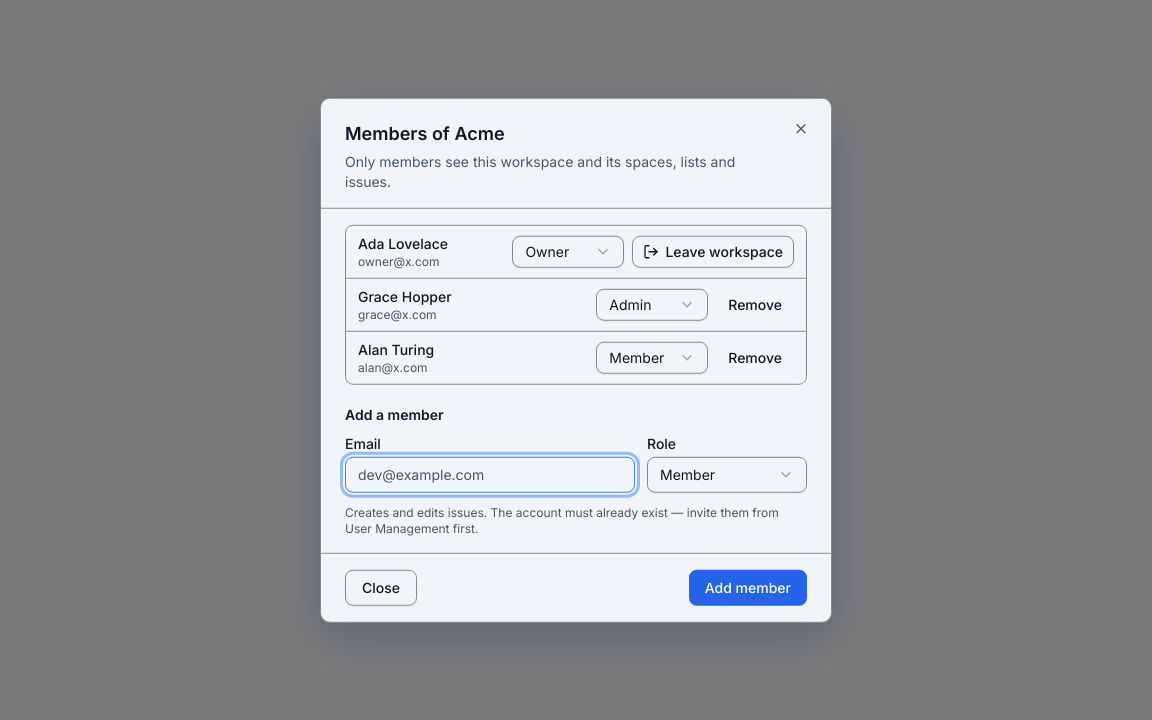
Test case: MembersDialog changing members › changes a role, shows it at once, and keeps it once the API agrees
This screenshot has width=1152, height=720.
Click the dropdown named "Role of Alan Turing".
click(652, 357)  # box [596,341,708,373]
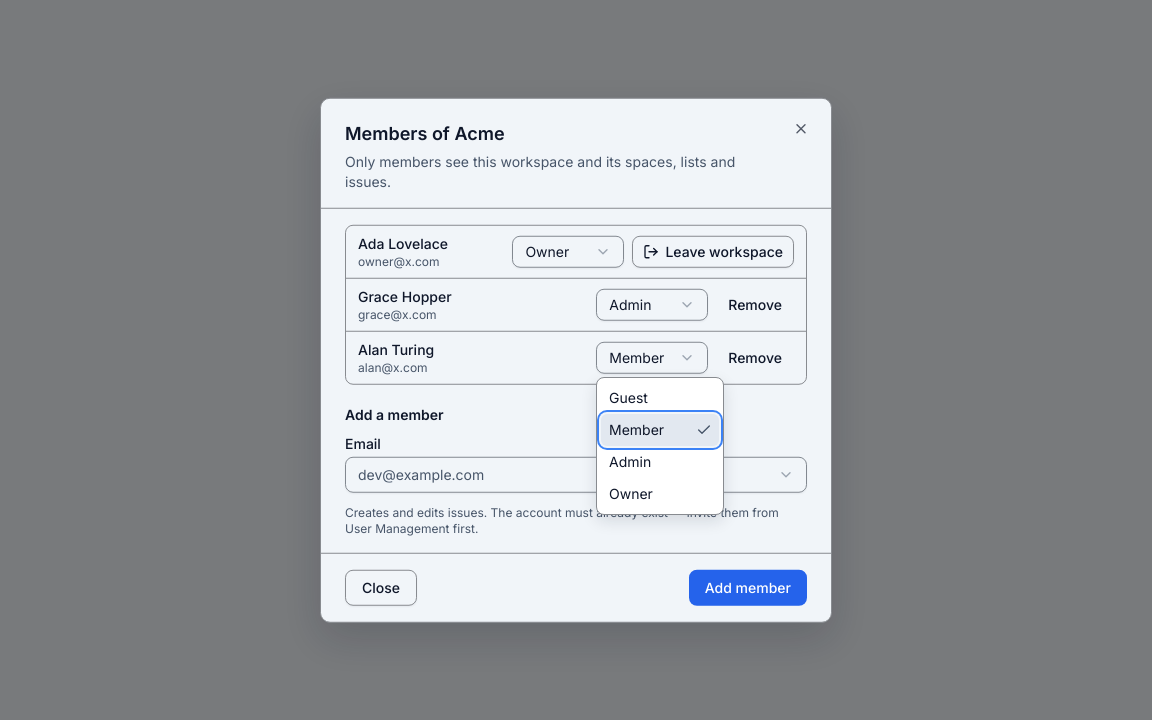
Click the option "Admin".
click(630, 462)  # box [609,453,651,470]
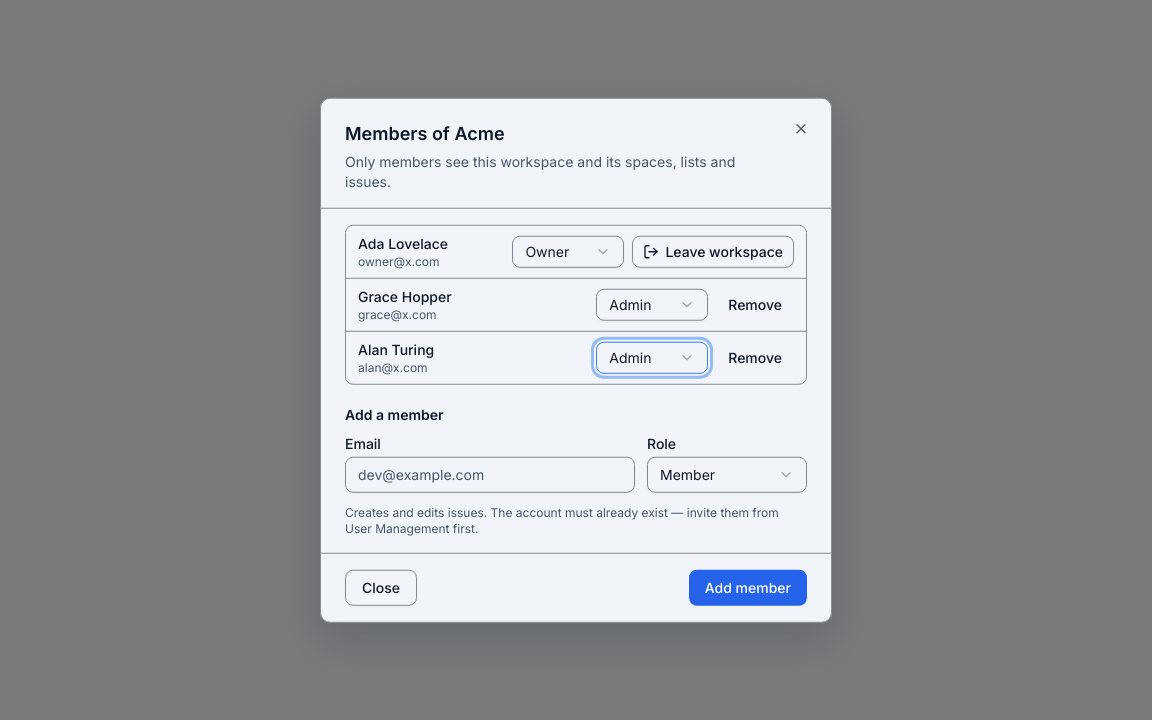
Result: the dropdown named "Role of Alan Turing" reads "Admin" at [596,341,708,373]
